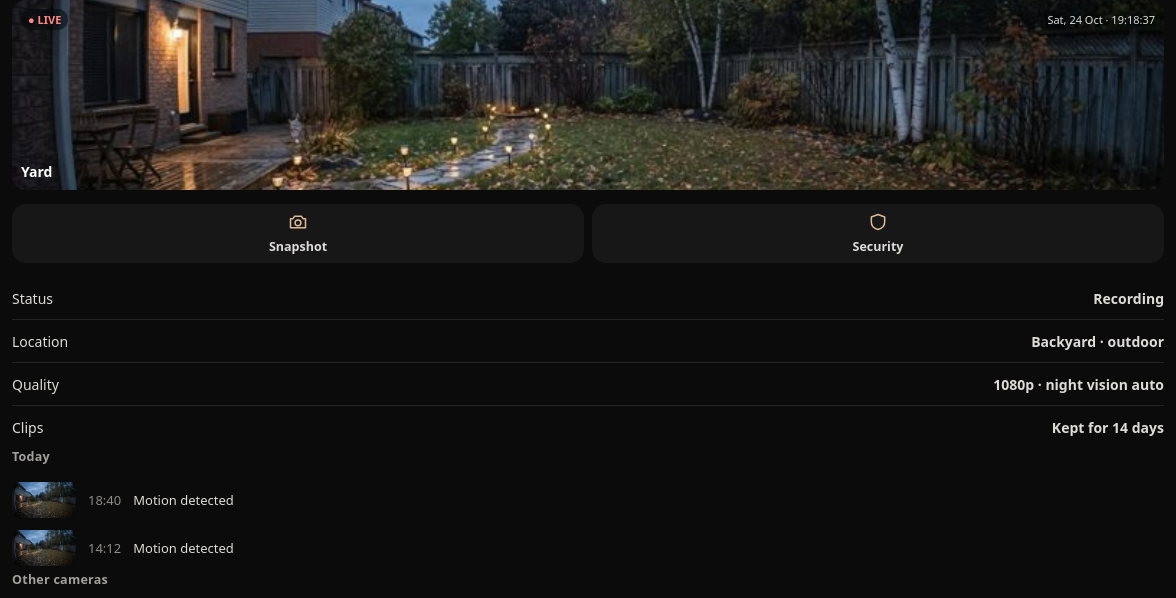
Test: камера: Talk как в прототипе › Snapshot пишет в журнал и показывает сообщение
Click the button "Snapshot".
click(298, 234)  # box [12,204,584,263]
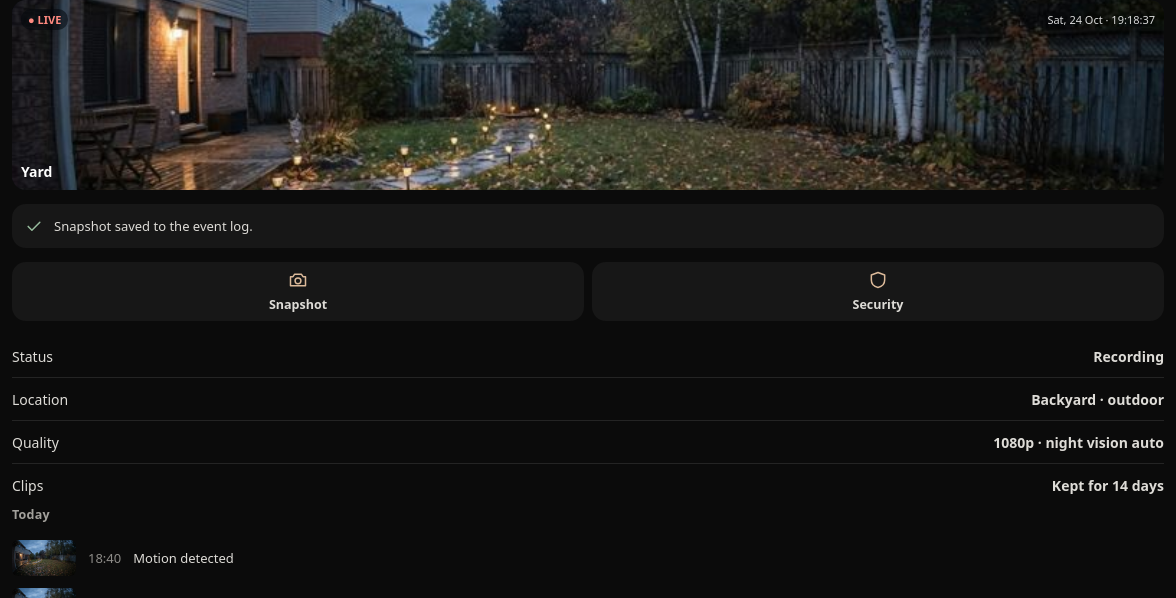
Check: the text "Snapshot saved to the event log." is shown, box [54,217,253,235]
